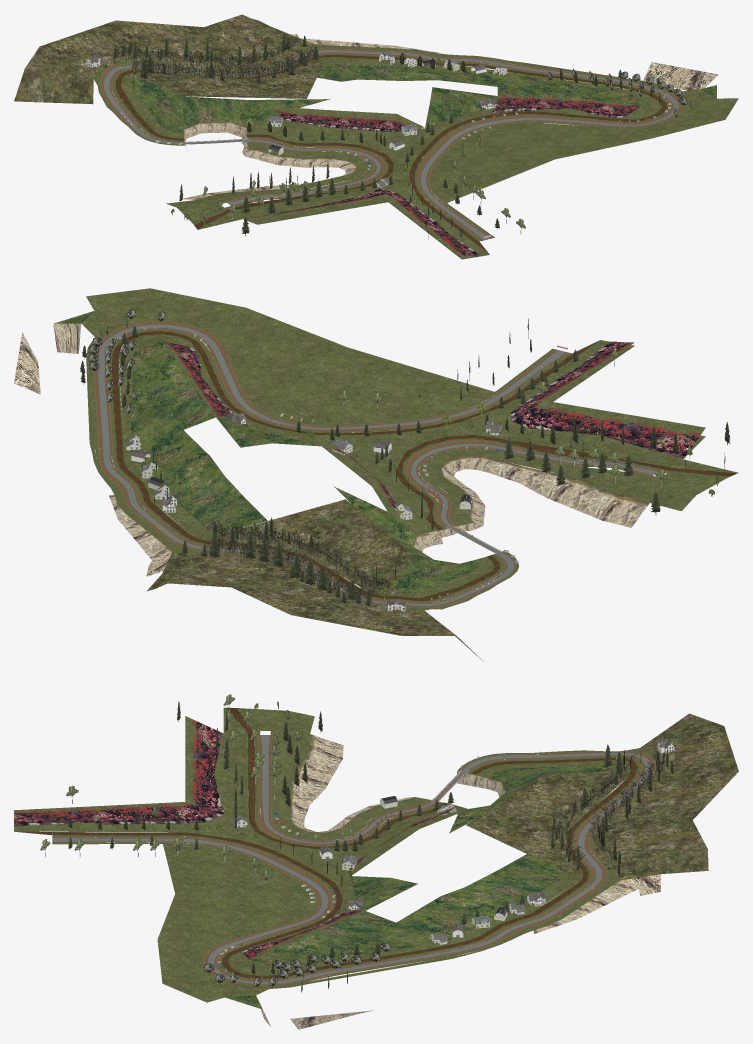
The model's file is stage-prin-env.glb.
3 views of the same model, one above another, from view 1: azimuth 30°, elevation 25°; view 2: azimuth 150°, elevation 25°; view 3: azimuth 270°, elevation 25° (orthographic). The views are drawn at different scales.
Parts seen in each view (by area): view 1: env part 0 chunk -1,-4, env part 0 chunk 0,-2, env part 0 chunk -1,-5, env part 0 chunk 0,-5, env part 0 chunk 2,-3, env part 0 chunk 0,-3, env part 0 chunk 2,-2, env part 0 chunk 1,-3, env part 0 chunk -2,-5, env part 0 chunk -2,-6, env part 0 chunk -2,-2, env part 0 chunk -1,-6 (+23 smaller); view 2: env part 0 chunk 0,-2, env part 0 chunk 2,-3, env part 0 chunk -2,-2, env part 0 chunk -1,-5, env part 0 chunk 2,-2, env part 0 chunk 0,-5, env part 0 chunk 1,-2, env part 0 chunk 1,-4, env part 0 chunk -2,-3, env part 0 chunk -1,-4, env part 0 chunk 0,-3, env part 0 chunk -1,-3 (+23 smaller); view 3: env part 0 chunk -1,-5, env part 0 chunk 0,-5, env part 0 chunk 2,-3, env part 0 chunk -2,-2, env part 0 chunk 0,-2, env part 0 chunk 2,-2, env part 0 chunk -1,-1, env part 0 chunk 1,-4, env part 0 chunk -2,-6, env part 0 chunk 1,-2, env part 0 chunk -1,-6, env part 0 chunk 0,-3 (+20 smaller).
Part boxes in pixels (bbox=[...]): env part 0 chunk -1,-4: bbox=[184, 96, 338, 164]; env part 0 chunk 0,-2: bbox=[355, 135, 554, 202]; env part 0 chunk -1,-5: bbox=[148, 27, 306, 98]; env part 0 chunk 0,-5: bbox=[204, 14, 364, 98]; env part 0 chunk 2,-3: bbox=[497, 62, 650, 117]; env part 0 chunk 0,-3: bbox=[324, 110, 471, 179]; env part 0 chunk 2,-2: bbox=[555, 91, 724, 159]; env part 0 chunk 1,-3: bbox=[425, 87, 567, 133]; env part 0 chunk -2,-5: bbox=[94, 68, 200, 133]; env part 0 chunk -2,-6: bbox=[25, 20, 155, 81]; env part 0 chunk -2,-2: bbox=[222, 187, 387, 224]; env part 0 chunk -1,-6: bbox=[116, 20, 203, 81]; env part 0 chunk 0,-2: bbox=[308, 347, 501, 454]; env part 0 chunk 2,-3: bbox=[86, 341, 221, 450]; env part 0 chunk -2,-2: bbox=[500, 400, 705, 479]; env part 0 chunk -1,-5: bbox=[232, 499, 414, 595]; env part 0 chunk 2,-2: bbox=[113, 288, 347, 382]; env part 0 chunk 0,-5: bbox=[159, 499, 344, 587]; env part 0 chunk 1,-2: bbox=[227, 347, 347, 423]; env part 0 chunk 1,-4: bbox=[94, 430, 247, 516]; env part 0 chunk -2,-3: bbox=[519, 464, 657, 527]; env part 0 chunk -1,-4: bbox=[334, 477, 485, 559]; env part 0 chunk 0,-3: bbox=[301, 423, 473, 487]; env part 0 chunk -1,-3: bbox=[394, 447, 529, 511]; env part 0 chunk -1,-5: bbox=[466, 771, 691, 848]; env part 0 chunk 0,-5: bbox=[466, 820, 707, 894]; env part 0 chunk 2,-3: bbox=[250, 911, 451, 983]; env part 0 chunk -2,-2: bbox=[185, 716, 276, 820]; env part 0 chunk 0,-2: bbox=[163, 817, 312, 893]; env part 0 chunk 2,-2: bbox=[157, 894, 293, 983]; env part 0 chunk -1,-1: bbox=[14, 802, 203, 839]; env part 0 chunk 1,-4: bbox=[396, 870, 540, 950]; env part 0 chunk -2,-6: bbox=[624, 713, 738, 786]; env part 0 chunk 1,-2: bbox=[176, 892, 316, 940]; env part 0 chunk -1,-6: bbox=[604, 761, 738, 820]; env part 0 chunk 0,-3: bbox=[242, 821, 418, 893].
Size of the model in its own units: 1935 by 146 by 1888.
19 materials, 19 textured.
